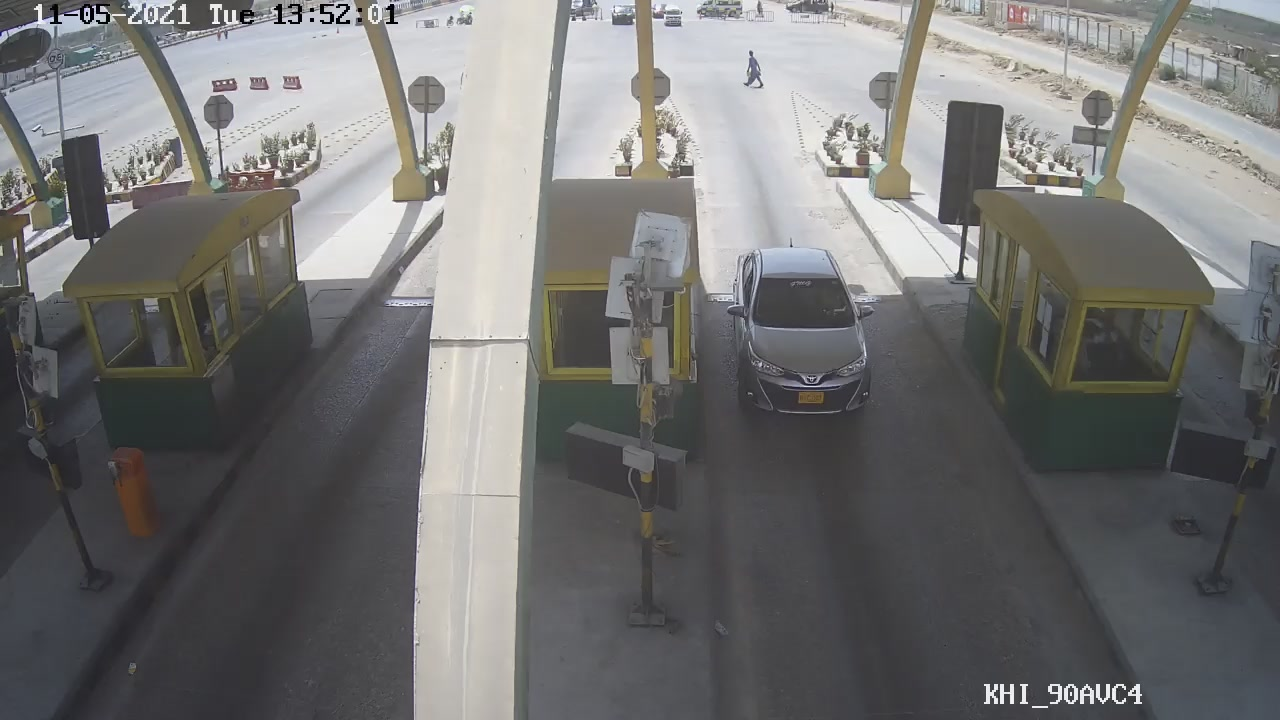F1: (719, 237, 880, 423)
